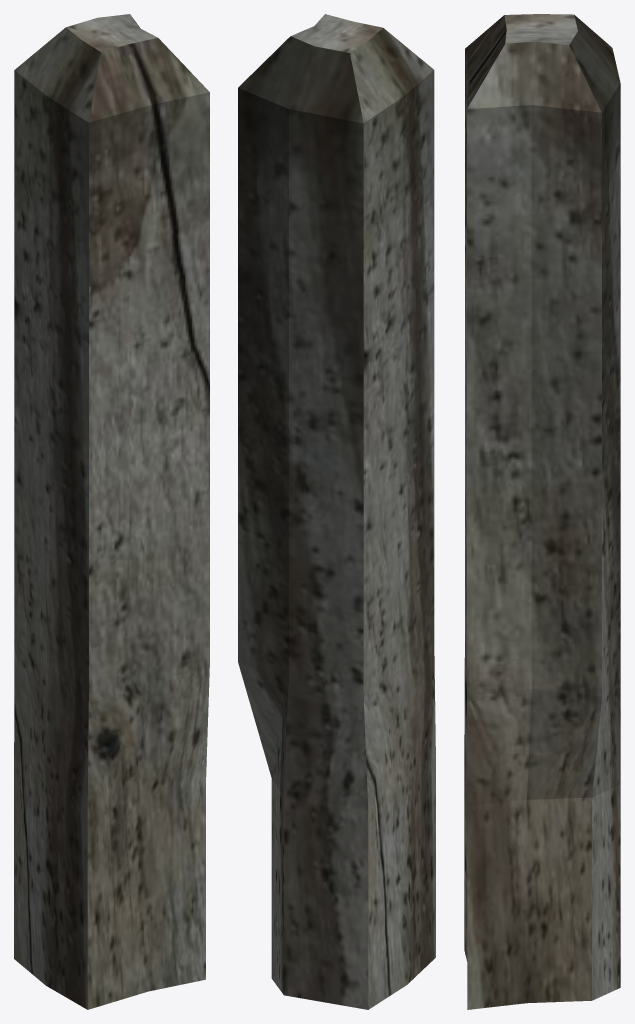
The model's file is molotov.fbx.
3 views of the same model, side by side, from view 1: azimuth 30°, elevation 25°; view 2: azimuth 150°, elevation 25°; view 3: azimuth 270°, elevation 25° (orthographic).
Visible parts, largest first — view 1: Cube; view 2: Cube; view 3: Cube.
Boxes of the visible parts, box(x1,y1,x2,y2) form: Cube: box(14, 14, 209, 1009); Cube: box(238, 14, 435, 1009); Cube: box(464, 14, 620, 1009).
Size of the model in its own units: 23.4 by 153 by 22.74.
